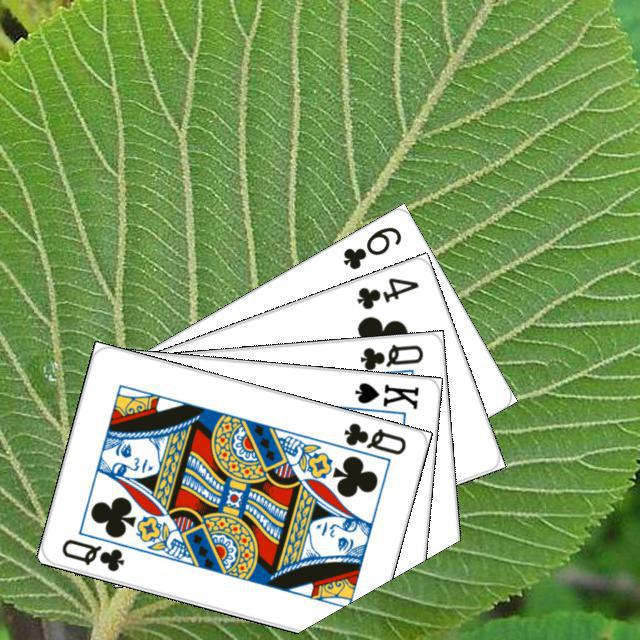4c: (351, 272, 421, 311)
6c: (338, 221, 404, 272)
Ks: (350, 377, 421, 411)
Qc: (328, 417, 408, 466), (350, 340, 425, 378), (56, 534, 126, 574)
